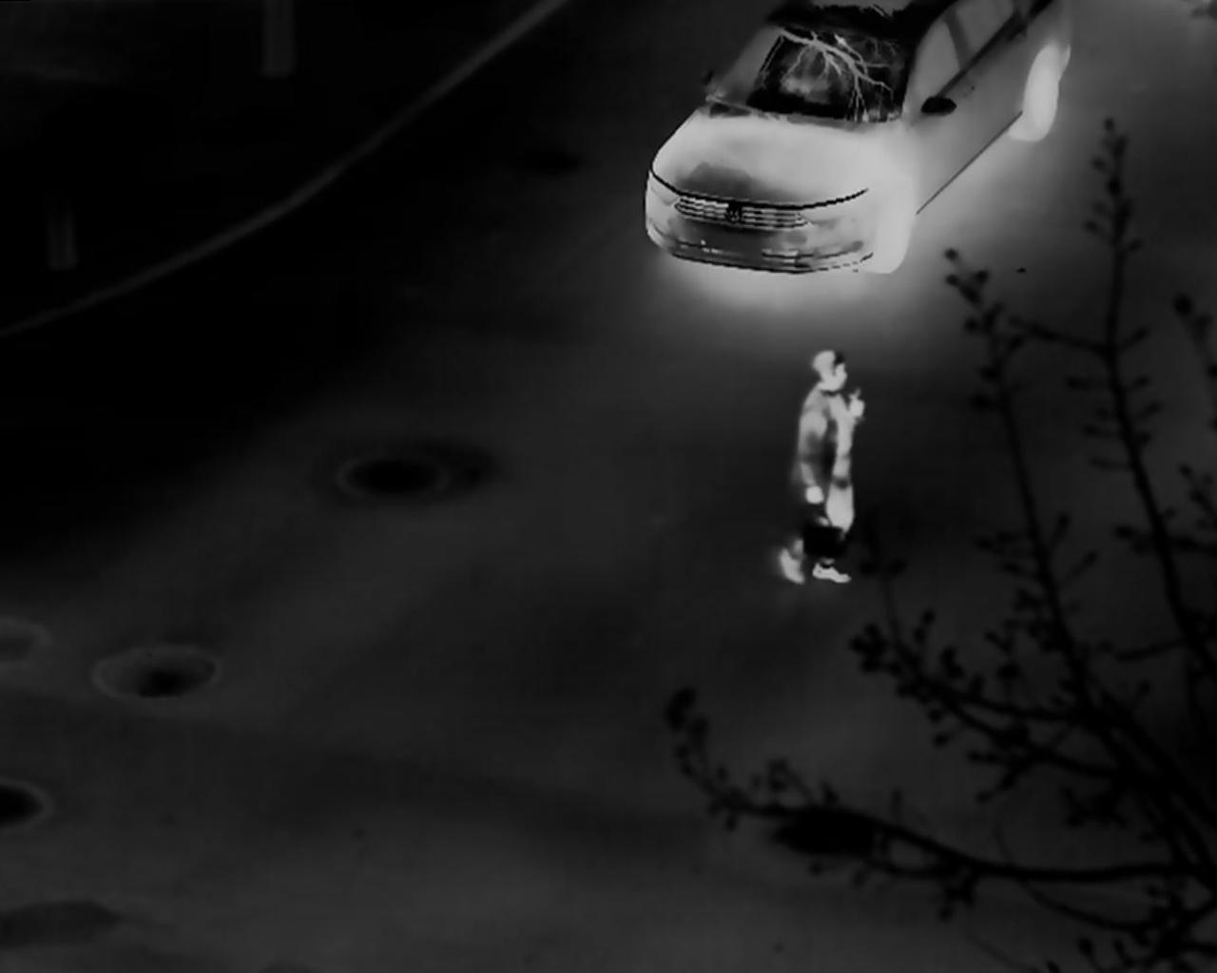person: (778, 348, 865, 585)
